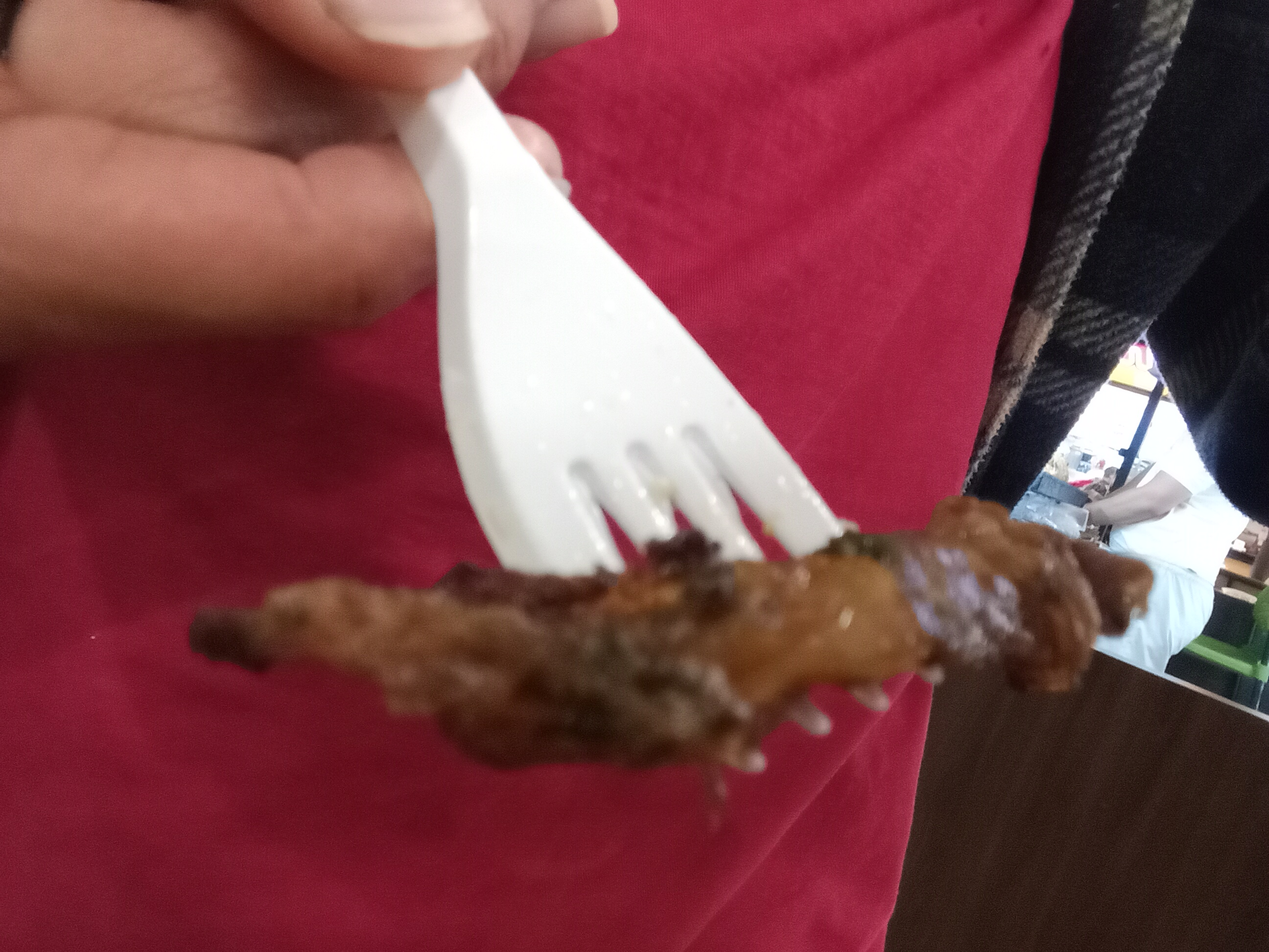Organico: (188, 501, 1154, 771)
